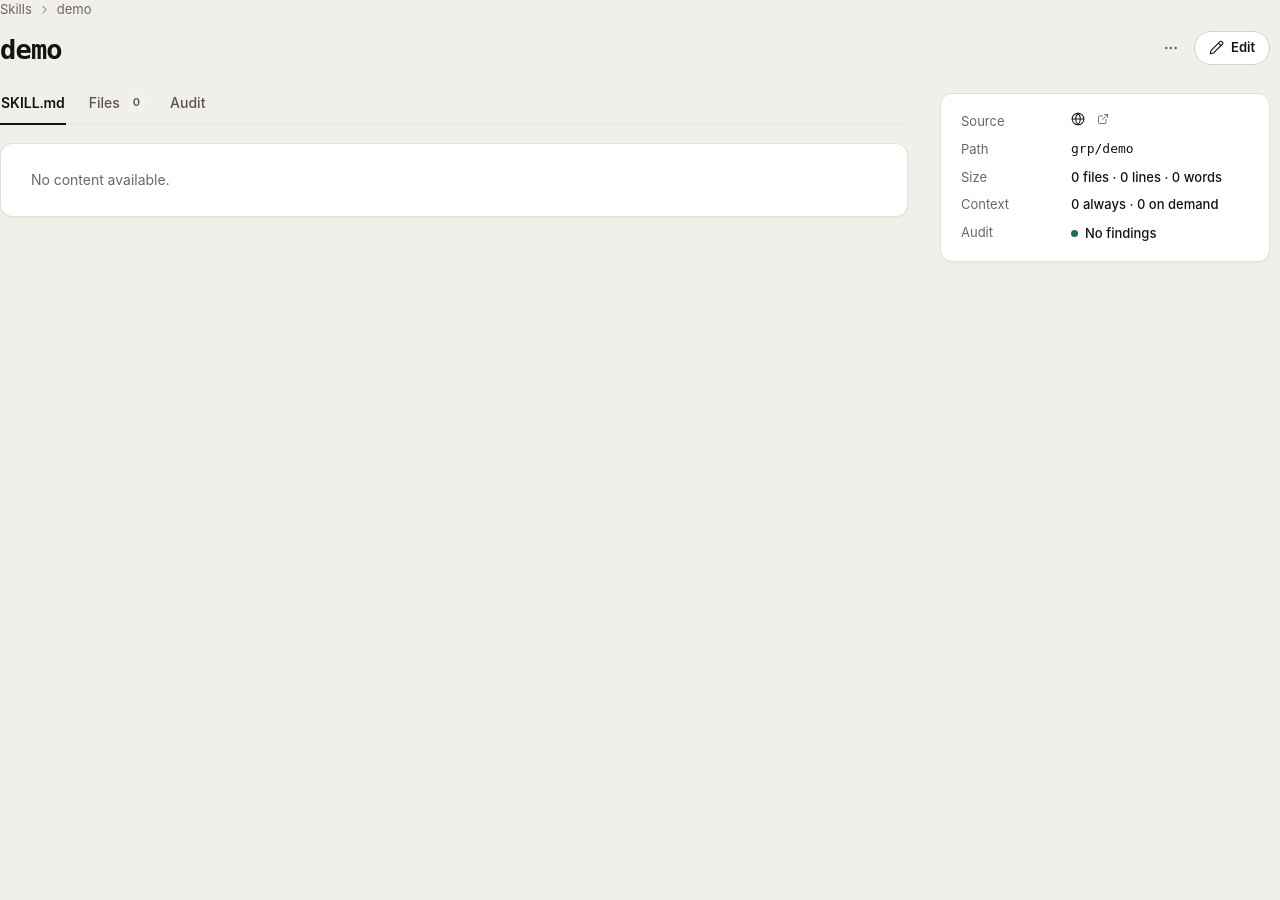
it: offers Move to folder for a plain skill and opens the dialog
Click the button named "More actions" at x=1171, y=48, box [1156,33,1186,63]
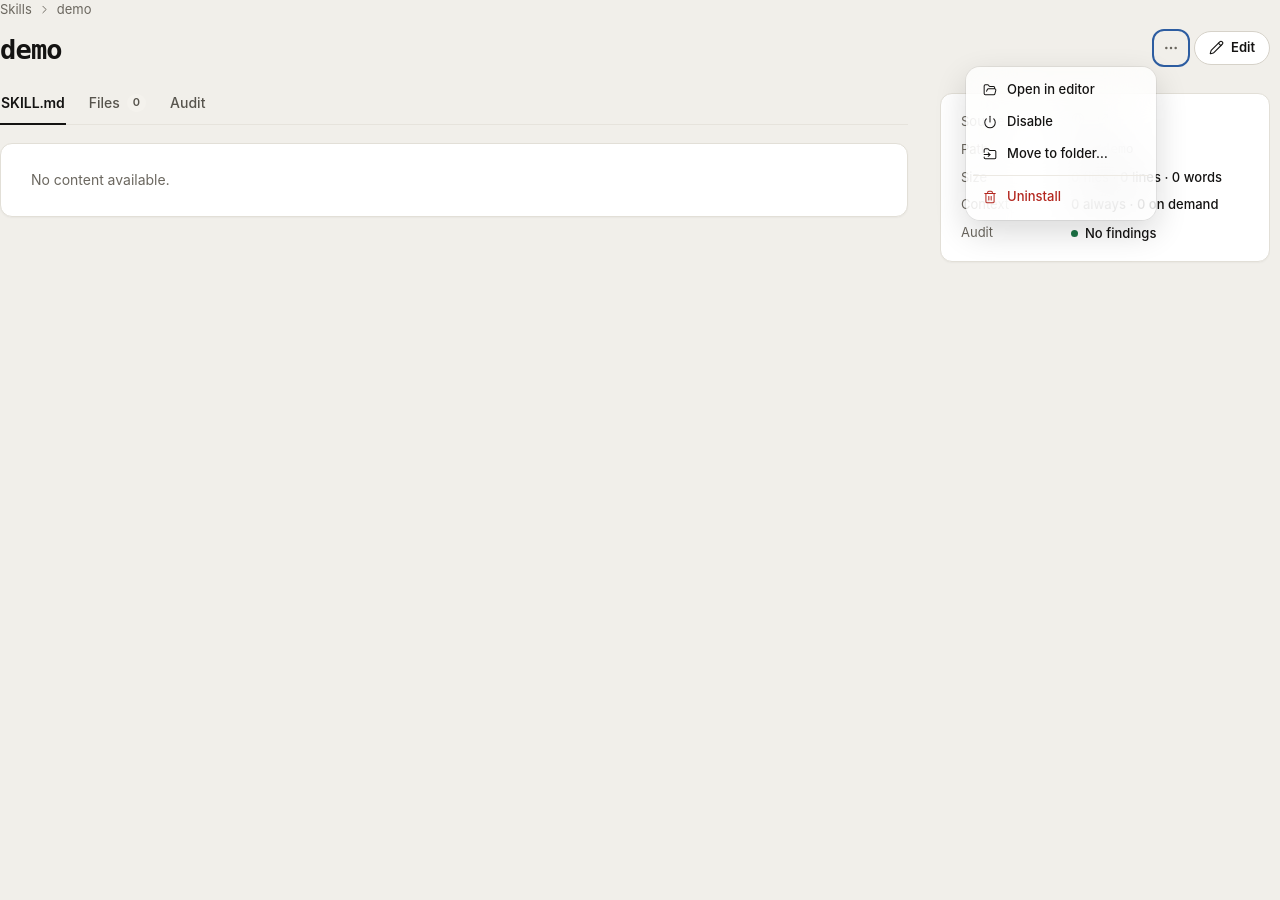
Click the menu item "Move to folder…" at x=1061, y=154, box [973,138,1149,170]
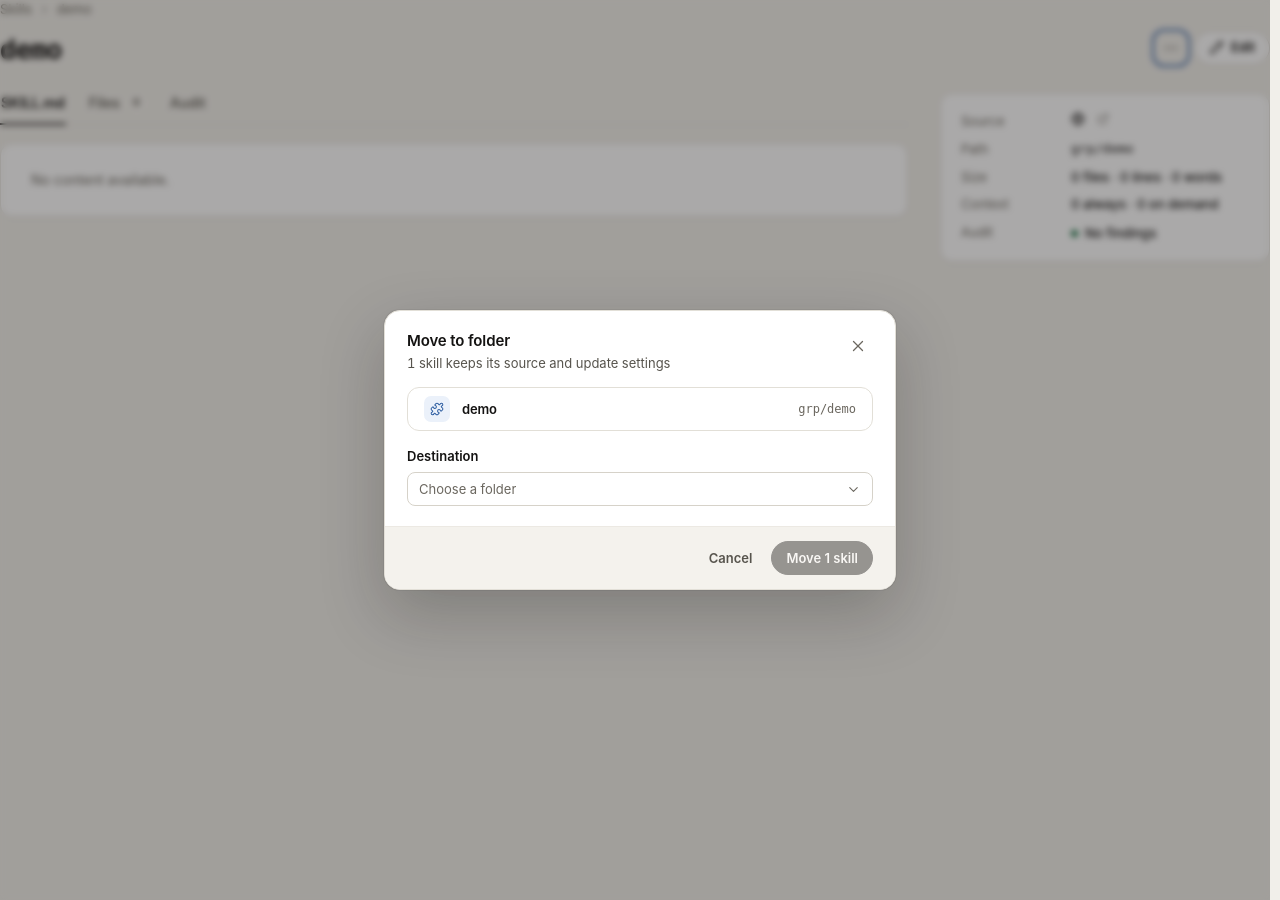
Expected: the dialog "Move to folder" is shown
